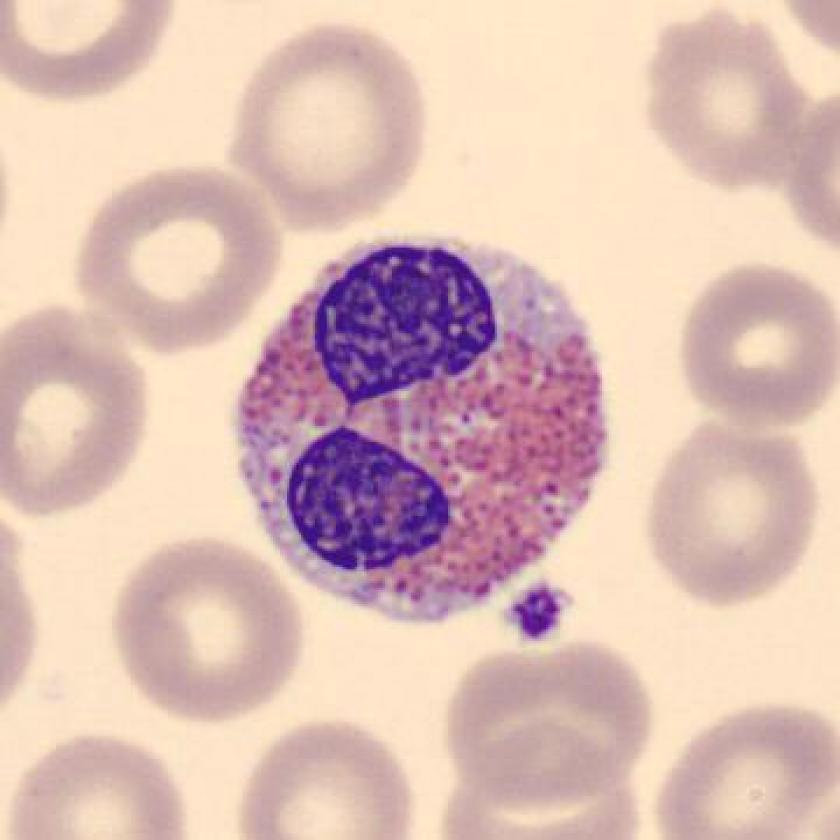eosinophil: (227, 224, 624, 638)
